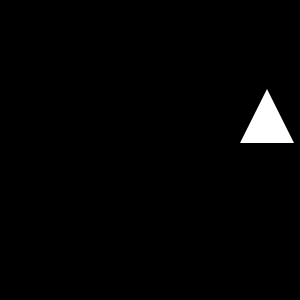triangle: (240, 89, 294, 143)
